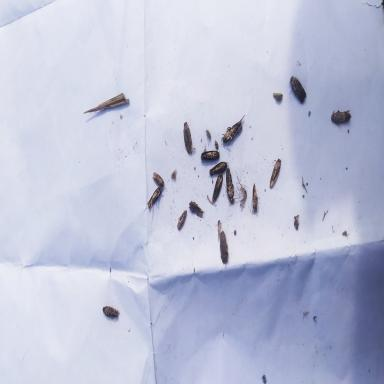pbw: (224, 167, 236, 207), (147, 183, 163, 212), (290, 74, 306, 103), (268, 158, 281, 188), (332, 110, 352, 126), (183, 122, 193, 154), (220, 229, 228, 267), (251, 181, 259, 216), (212, 174, 222, 202), (209, 160, 229, 174), (189, 200, 204, 218), (200, 150, 221, 160), (101, 304, 118, 316), (151, 170, 164, 185), (177, 209, 186, 230)
